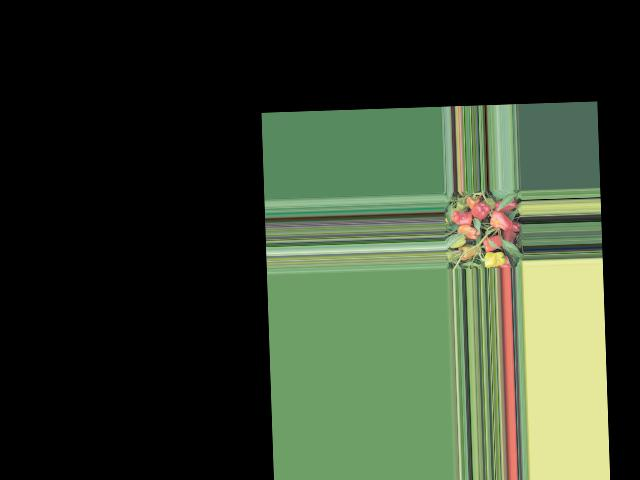bell_pepper: (466, 194, 476, 208)
